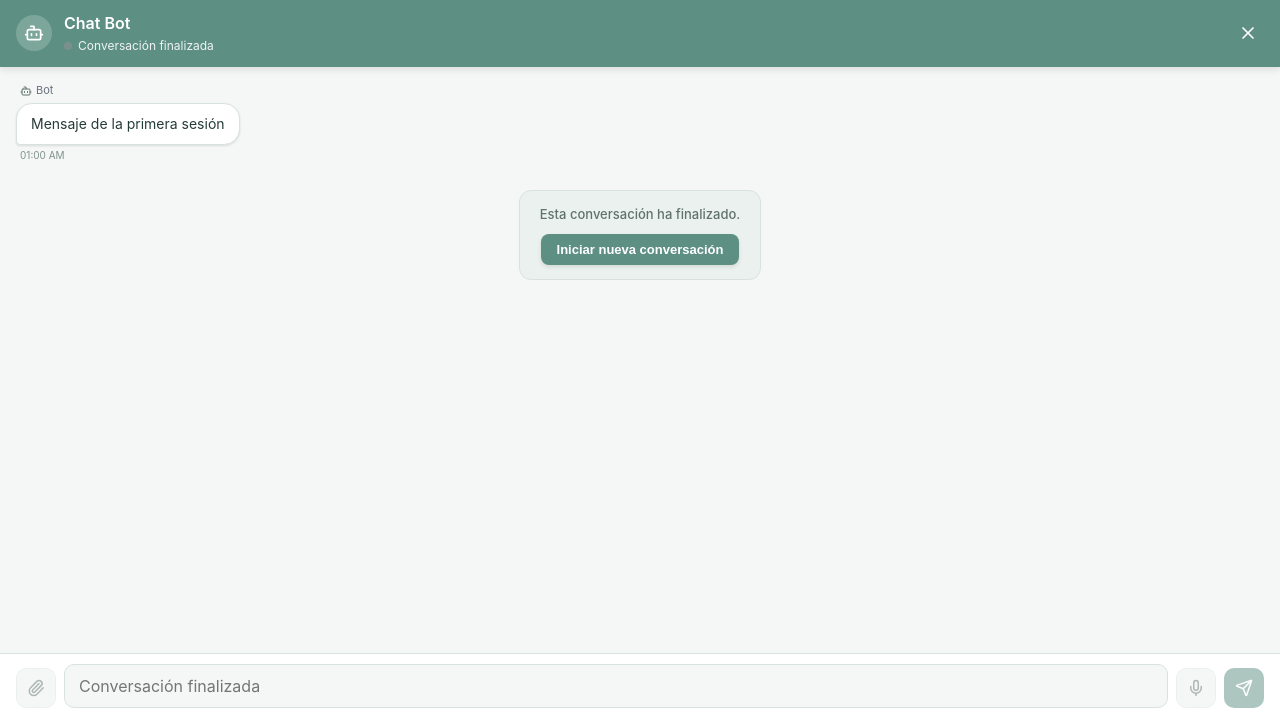
Test: WebchatApp Widget › renders session divider correctly and preserves thread history when starting new conversation
expect the text "Esta conversación ha finalizado." is shown: met, box [540, 205, 740, 224]
expect the text "Mensaje de la primera sesión" is shown: met, box [31, 114, 224, 134]
Click "Iniciar nueva conversación"
Step 1. Click the button "Iniciar nueva conversación" → (640, 250), box [540, 234, 739, 265]
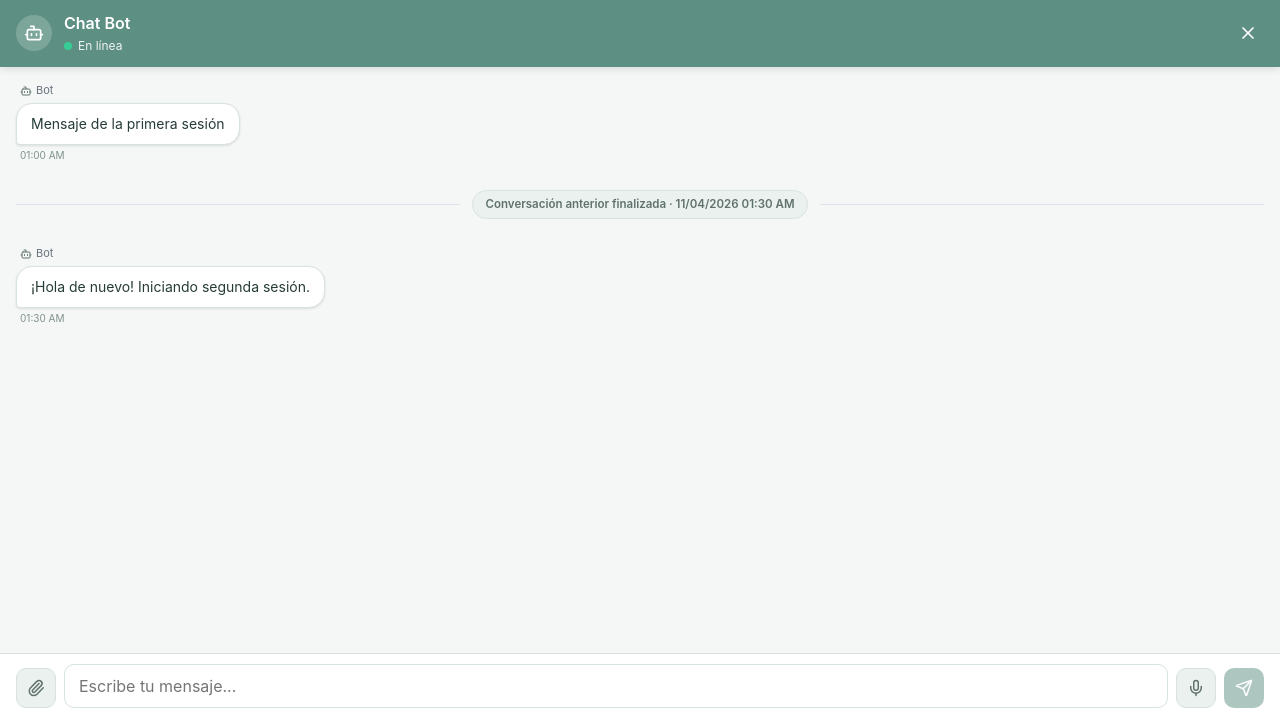
expect the text "Mensaje de la primera sesión" is shown: met, box [31, 114, 224, 134]
expect the text "Conversación anterior finalizada · 11/04/2026 01:30 AM" is shown: met, box [472, 190, 808, 219]
expect the text "¡Hola de nuevo! Iniciando segunda sesión." is shown: met, box [31, 276, 310, 297]
